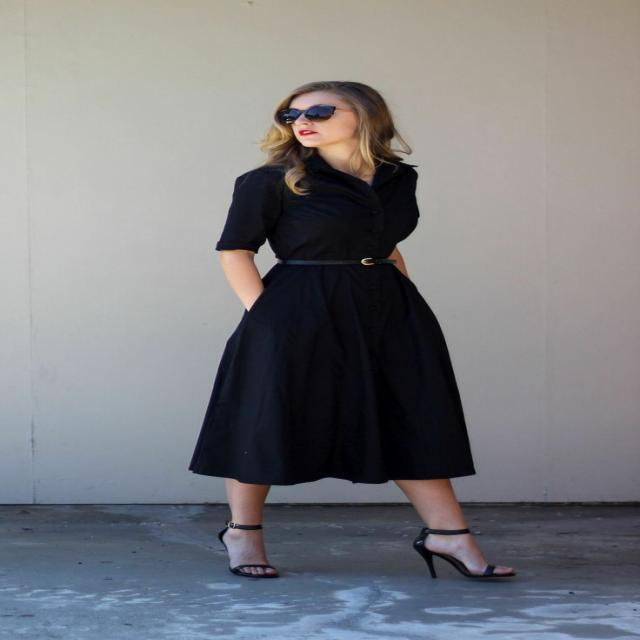female-dress: (218, 161, 476, 484)
